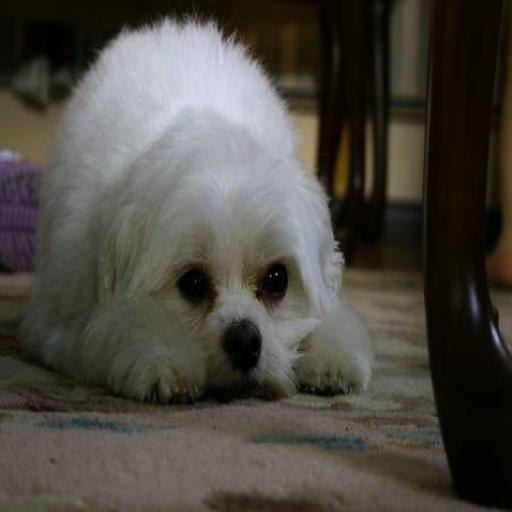dog_face: (128, 146, 334, 400)
